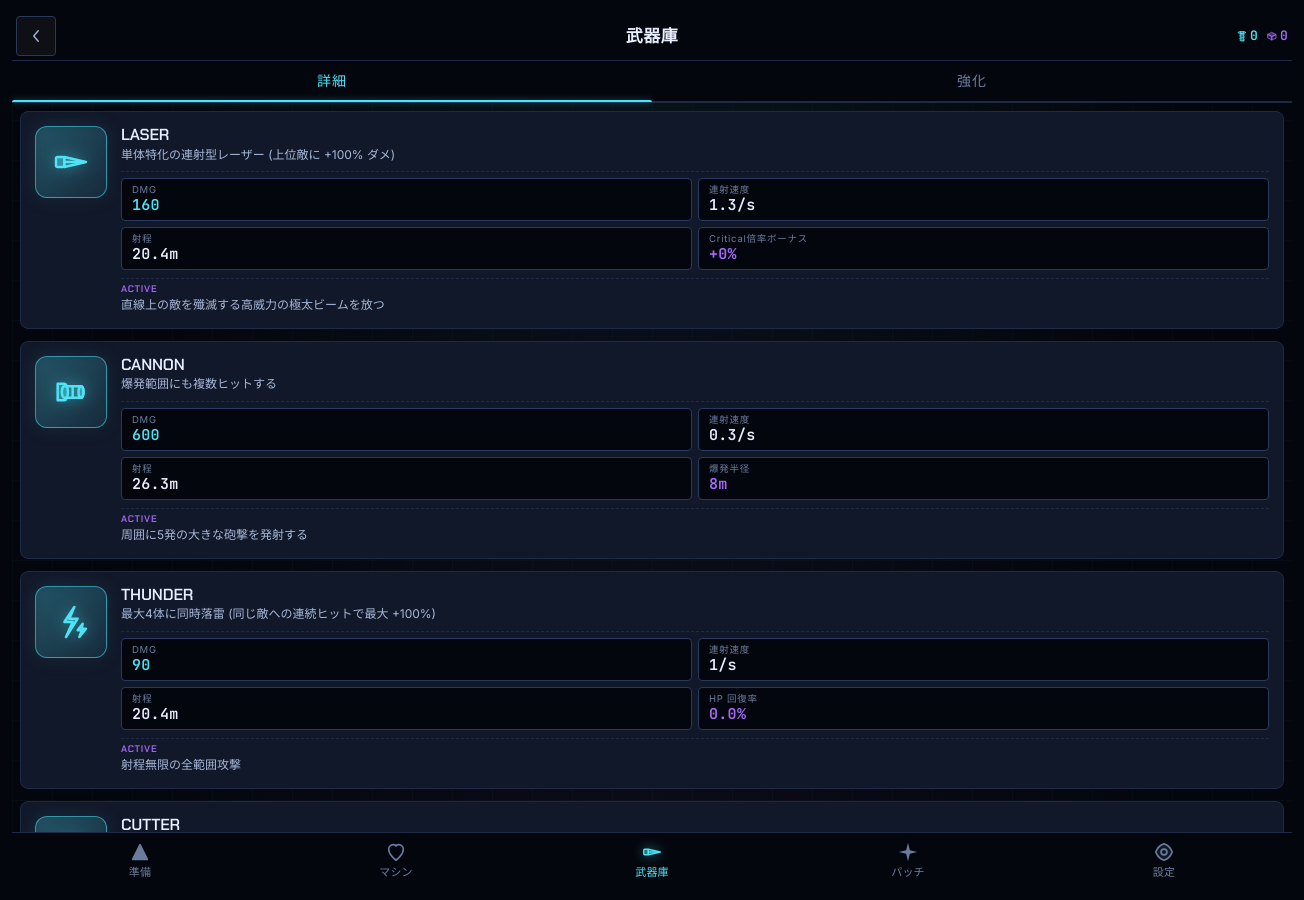
Test: ArmoryScreen › タブ切り替え後に「詳細」タブをクリックすると詳細タブパネルに戻る
What coordinates should you click on to do the following:
click the tab "強化"
I would click on:
 (972, 81)
Its box is [652, 61, 1292, 101].
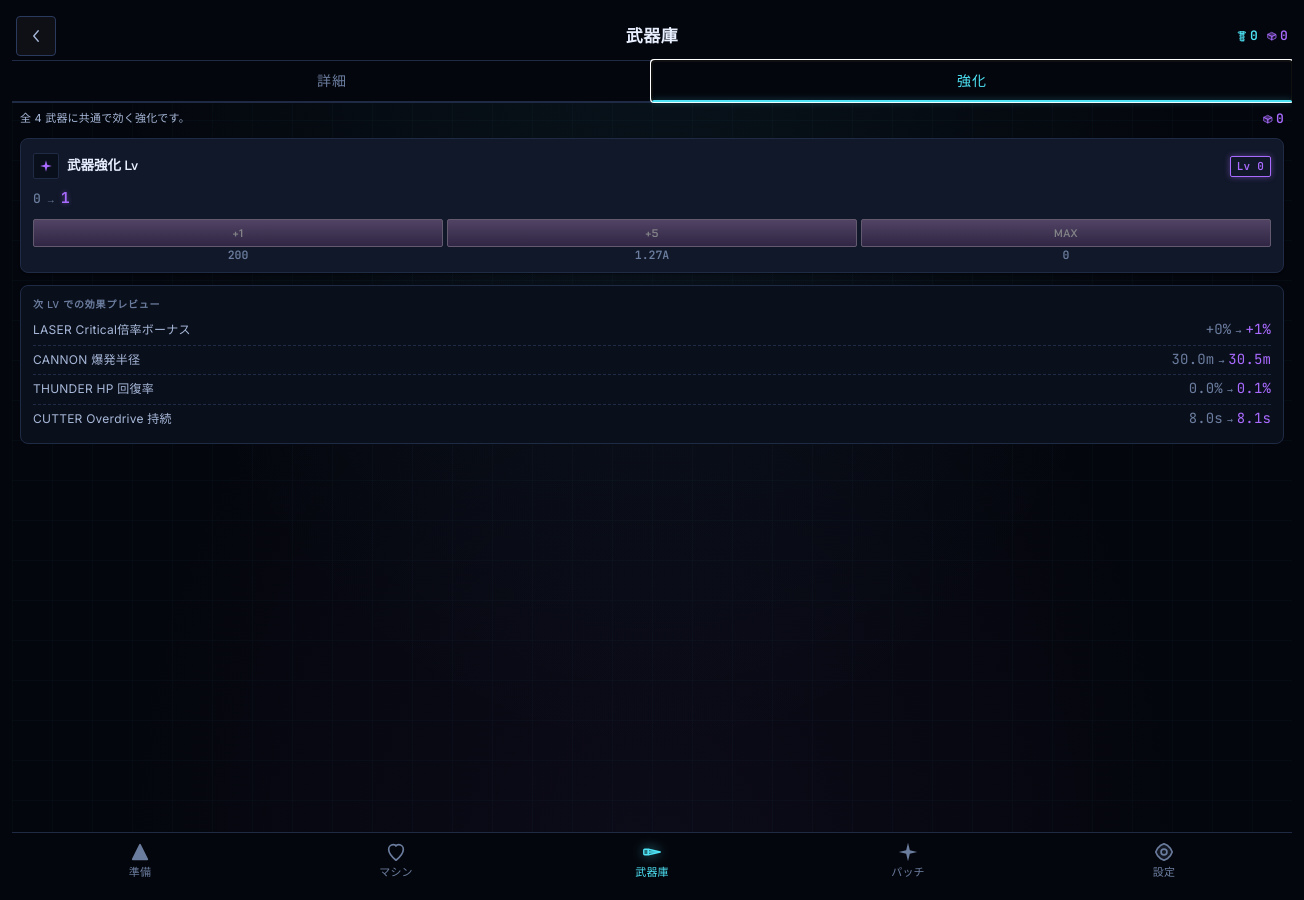
What coordinates should you click on to do the following:
click the tab "詳細"
I would click on:
 (332, 81)
Its box is [12, 61, 652, 101].
(page scrolled)
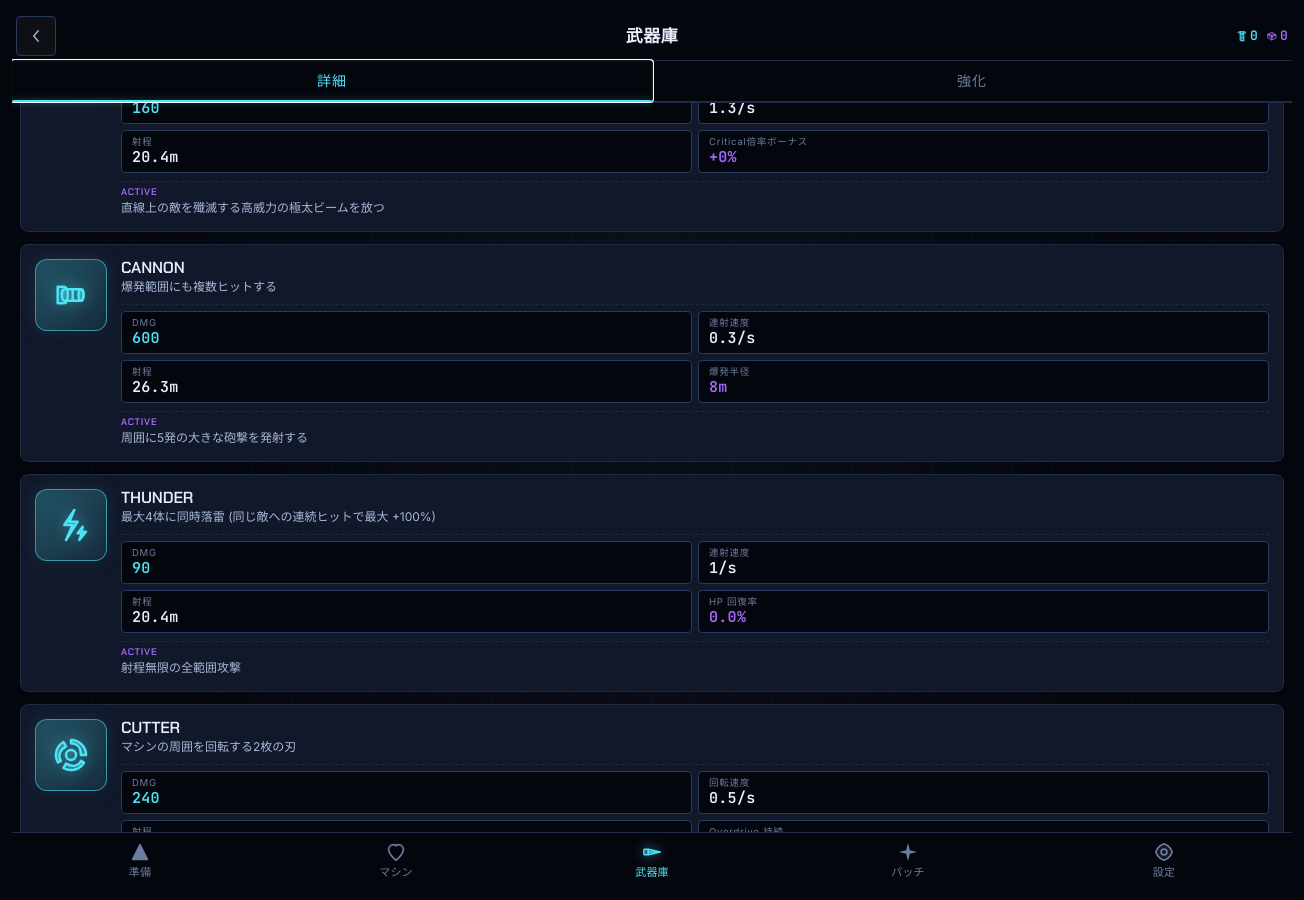
Result: the panel named "武器詳細" is shown
